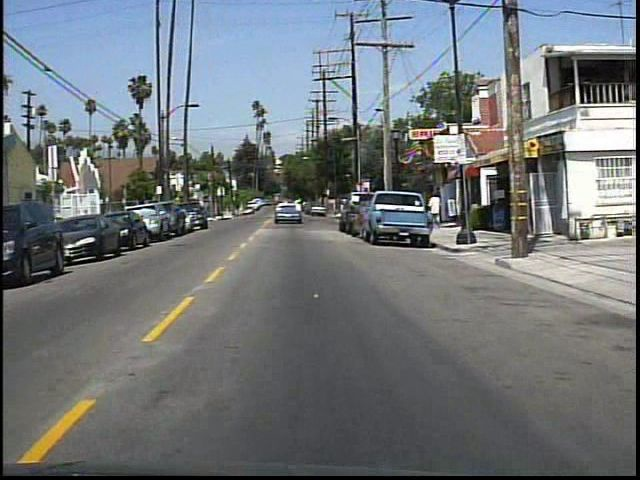person: (430, 190, 445, 230)
